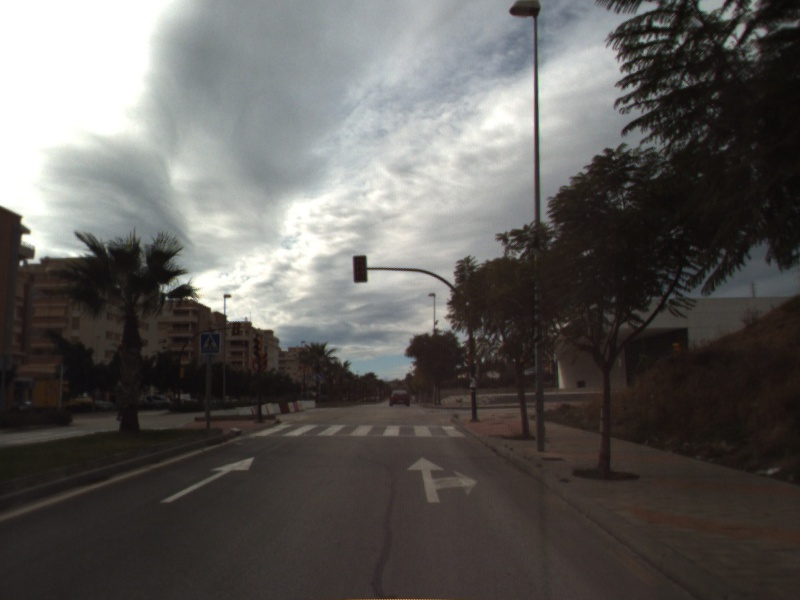STRAIGHT: (158, 455, 256, 505)
STRAIGHT_RIGHT: (405, 455, 479, 504)
